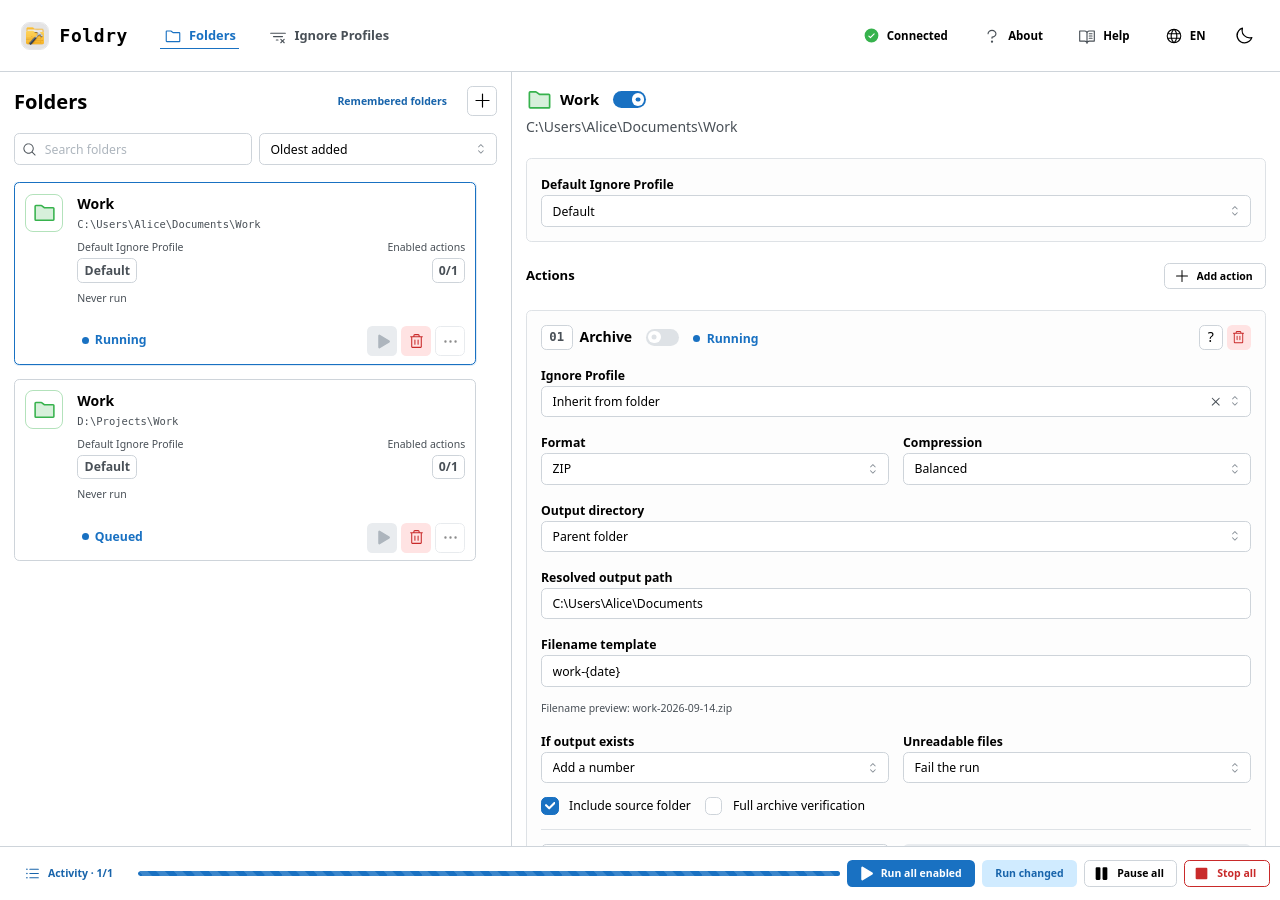
Test case: App shell › switches the interface language without hardcoded component copy
Expected: the heading "Folders" is shown, x1=14 y1=89 x2=87 y2=113
Click the button with aria-label "Language": (1188, 36) x1=1153 y1=20 x2=1222 y2=51
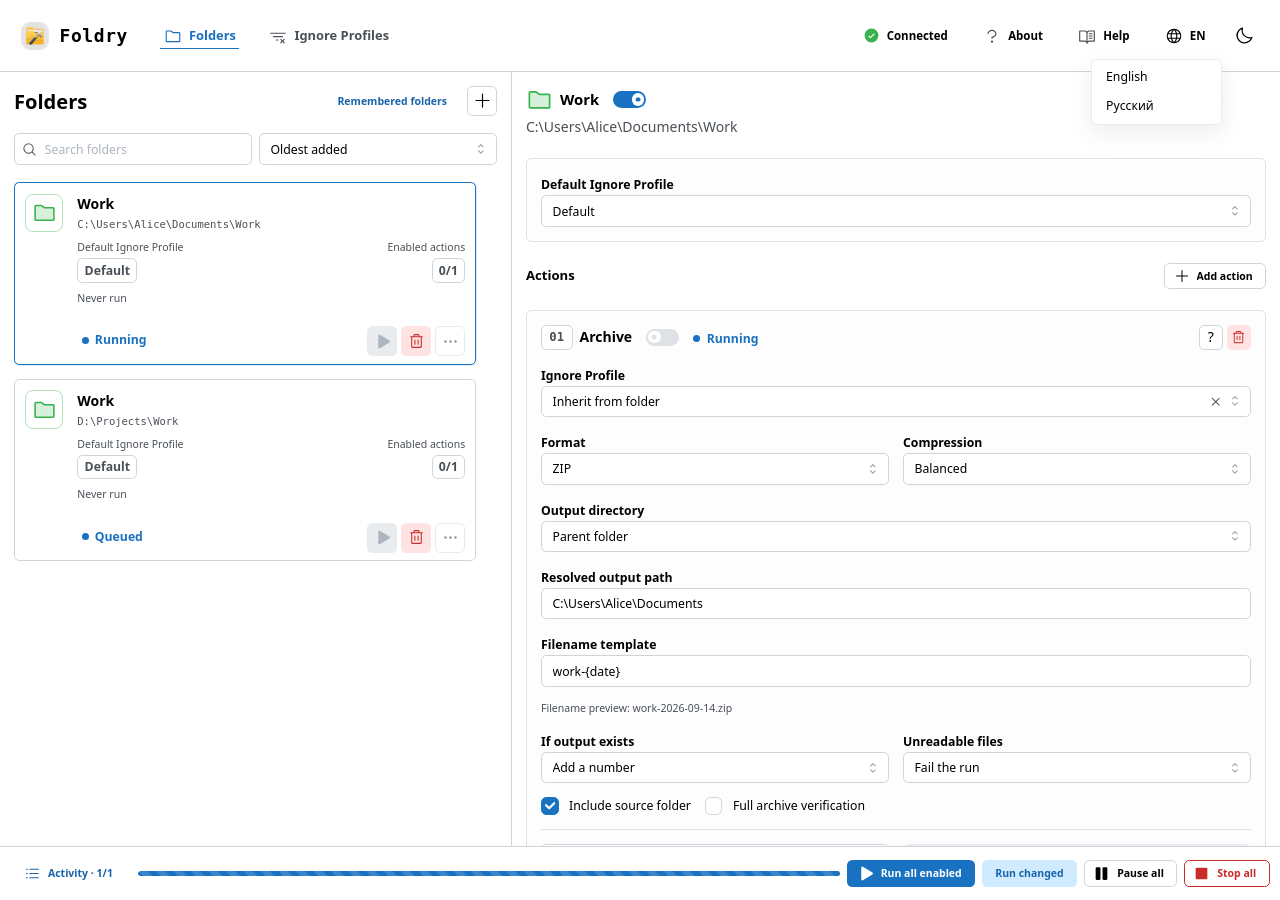
Click the menu item "Русский": (1157, 106) x1=1096 y1=92 x2=1218 y2=120
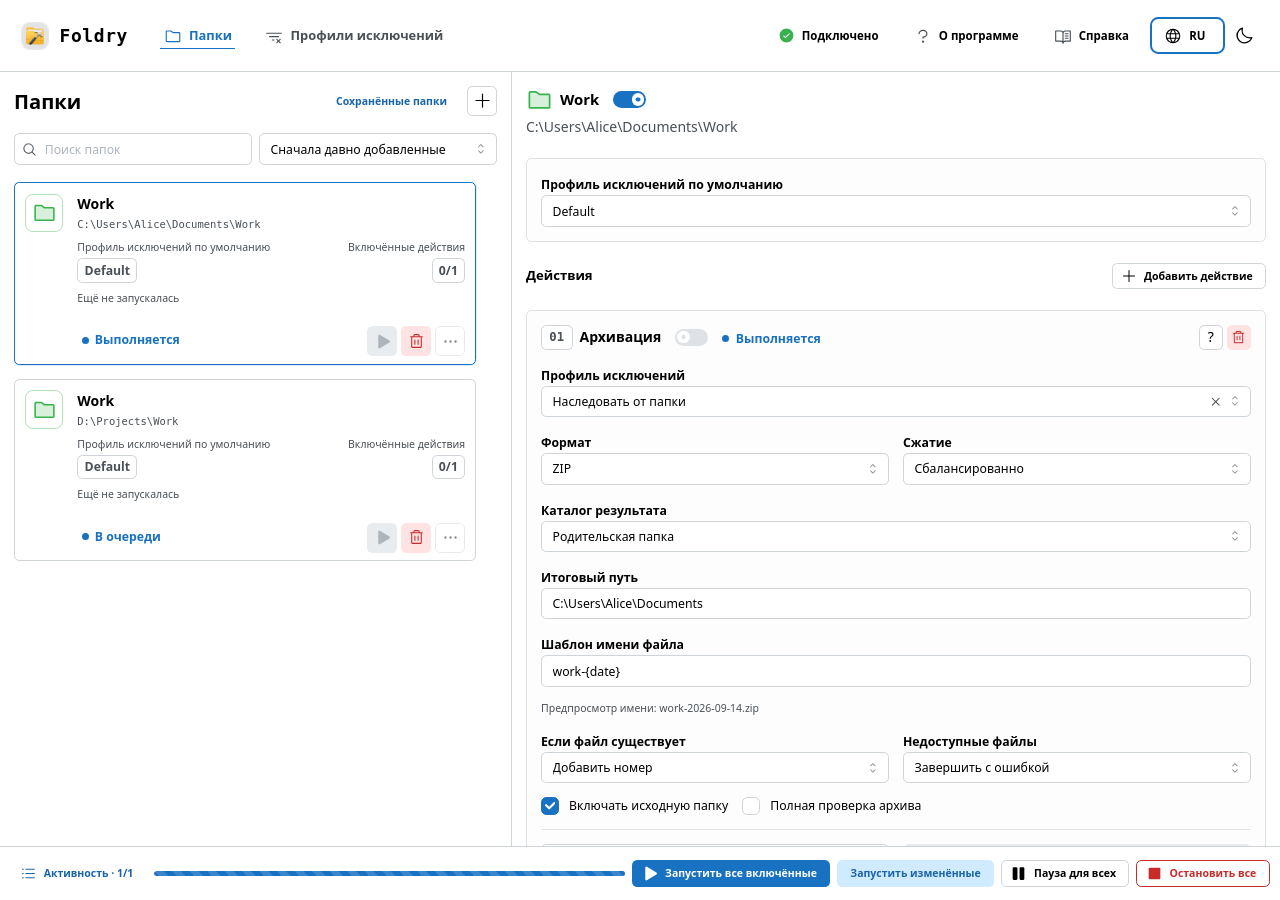
Expected: the heading "Папки" is shown, x1=14 y1=89 x2=81 y2=113
Expected: the button "Запустить все включённые" is shown, x1=632 y1=860 x2=830 y2=887
